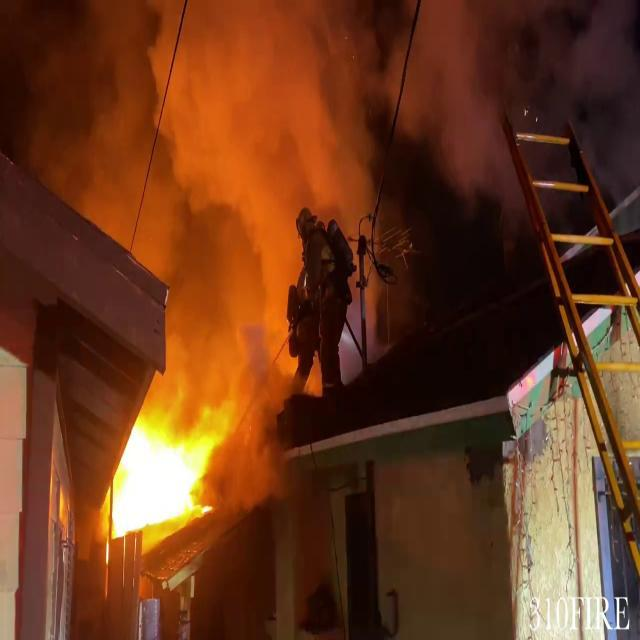Fire: (101, 353, 235, 552)
Smoke: (58, 0, 376, 363), (404, 0, 640, 236)
